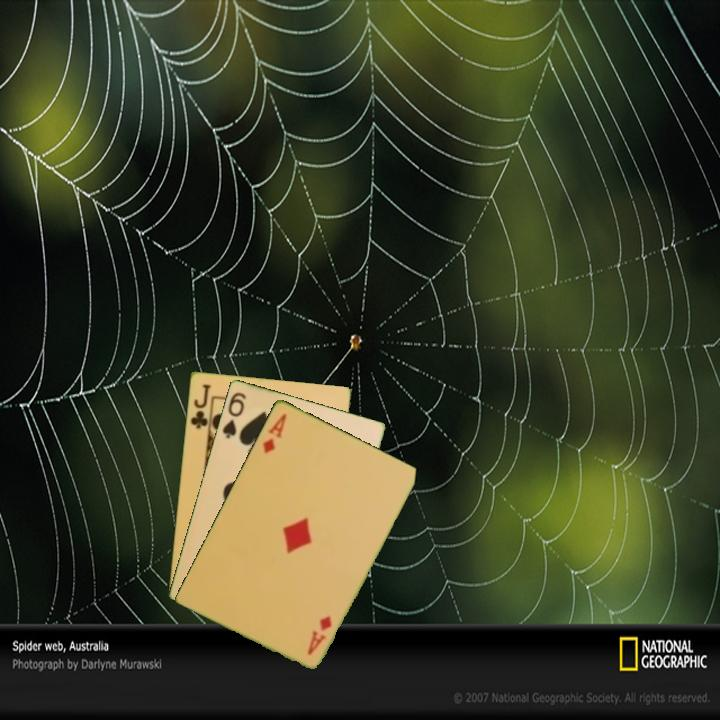6s: (219, 388, 249, 441)
Ad: (258, 410, 289, 456), (304, 612, 335, 658)
Jc: (187, 380, 214, 431)
